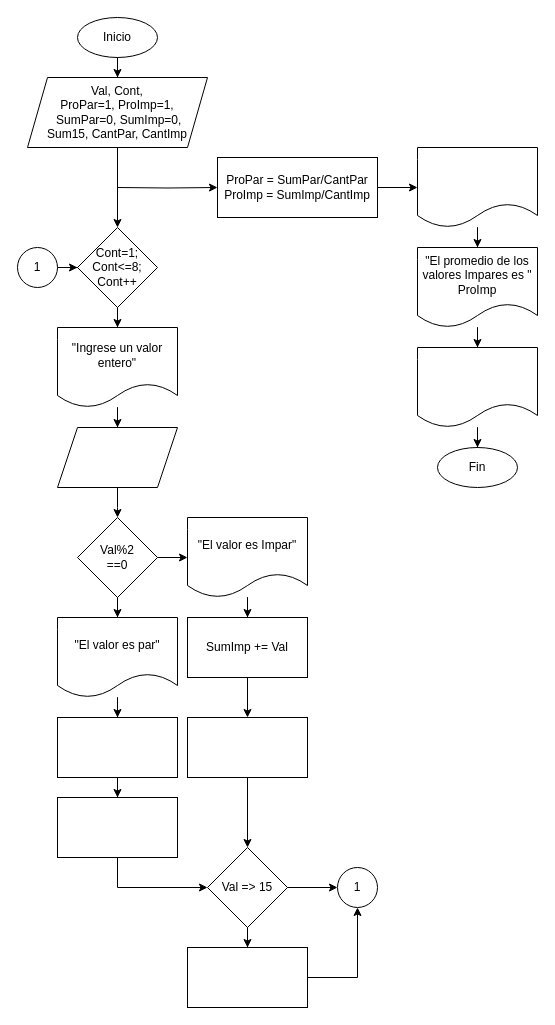
Image size: 555x1025. Some labels were removed from this diagram. The box of each missing label's shape, as (x1, y1, x2, y2) in pixels:
"El promedio de los valores Pares es " ProPar: (416, 146, 538, 228)
"Hubieron " Sum15 "valores ingresaros que superaron 15": (416, 346, 538, 428)
CantImp++: (186, 716, 308, 778)
CantPar++: (56, 796, 178, 858)
Sum15++: (186, 946, 308, 1008)
SumPar += Val: (56, 716, 178, 778)
Val: (56, 426, 178, 488)
